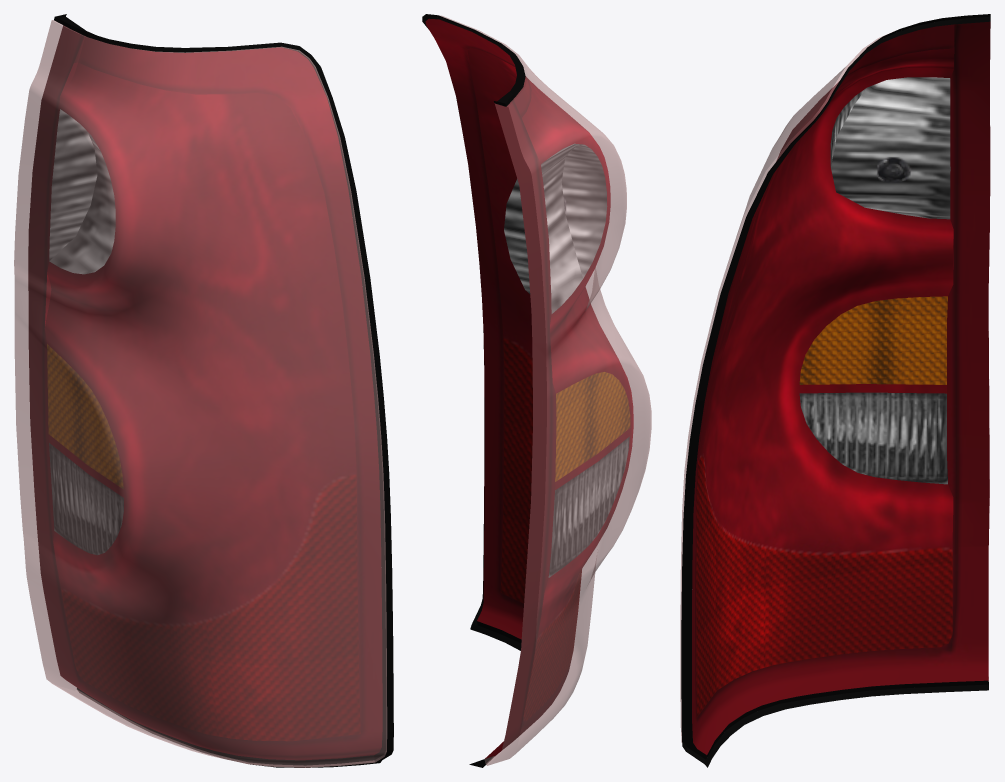
The picture shows the model from 3 angles, left to right: view 1: azimuth 30°, elevation 25°; view 2: azimuth 150°, elevation 25°; view 3: azimuth 270°, elevation 25°; orthographic projection. The views are drawn at different scales.
Parts seen in each view (by area): view 1: U803_1A_541C_R_1_DTaSI_U803_1A_541C_R, U803_1A_541C_R_U803_1A_541C_R_2_N, U803_1A_541C_R_U803_1A_541C_R_3_D; view 2: U803_1A_541C_R_U803_1A_541C_R_2_N, U803_1A_541C_R_1_DTaSI_U803_1A_541C_R, U803_1A_541C_R_U803_1A_541C_R_3_D; view 3: U803_1A_541C_R_U803_1A_541C_R_2_N, U803_1A_541C_R_U803_1A_541C_R_3_D, U803_1A_541C_R_1_DTaSI_U803_1A_541C_R.
Boxes of the visible parts, <box> form: U803_1A_541C_R_1_DTaSI_U803_1A_541C_R: <box>14,20,387,767</box>; U803_1A_541C_R_U803_1A_541C_R_2_N: <box>28,25,382,760</box>; U803_1A_541C_R_U803_1A_541C_R_3_D: <box>54,14,393,767</box>; U803_1A_541C_R_U803_1A_541C_R_2_N: <box>425,18,633,758</box>; U803_1A_541C_R_1_DTaSI_U803_1A_541C_R: <box>439,15,651,765</box>; U803_1A_541C_R_U803_1A_541C_R_3_D: <box>422,14,525,767</box>; U803_1A_541C_R_U803_1A_541C_R_2_N: <box>692,21,990,754</box>; U803_1A_541C_R_U803_1A_541C_R_3_D: <box>681,14,990,767</box>; U803_1A_541C_R_1_DTaSI_U803_1A_541C_R: <box>680,31,990,742</box>.
Size of the model in its own units: 12.89 by 37.06 by 15.61.
